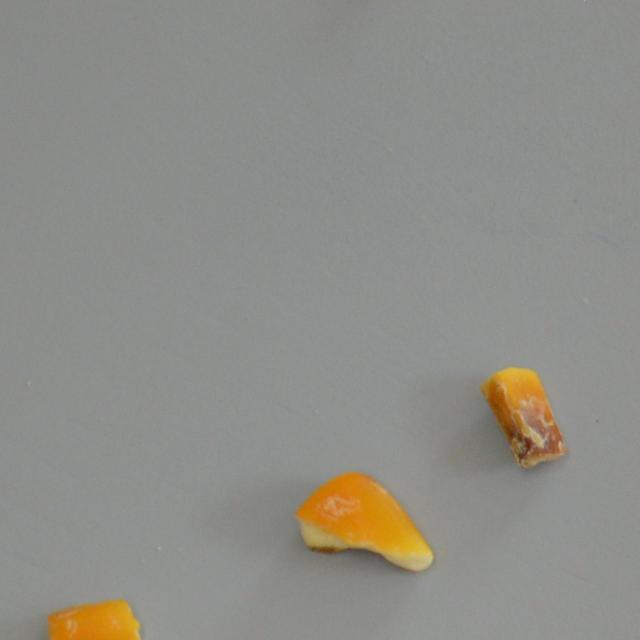dañado: (295, 470, 436, 572), (475, 366, 573, 470), (44, 591, 142, 640)
